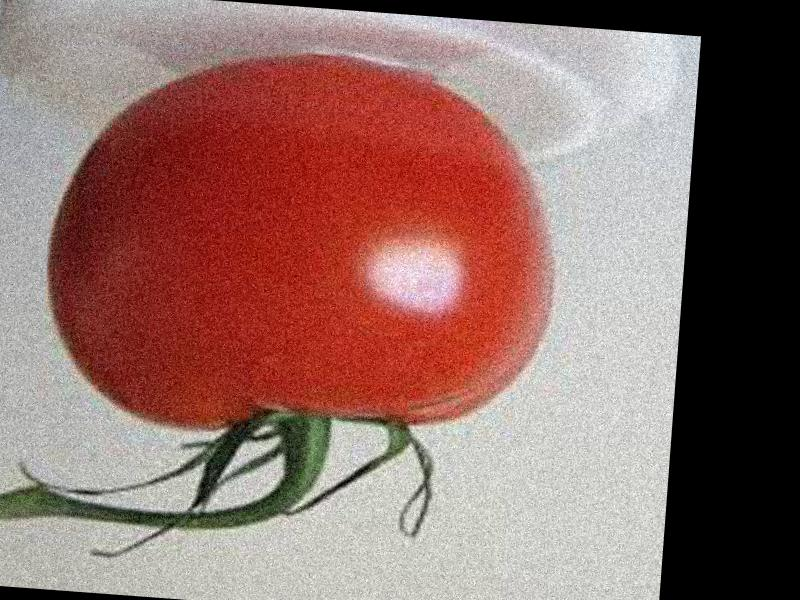Tomato: (35, 37, 568, 454)
